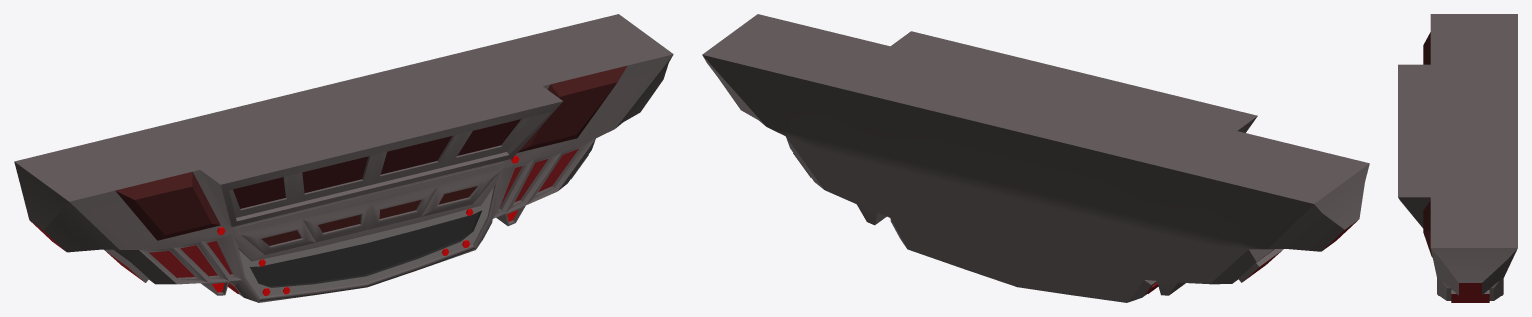
Rendered from naveEnemiga.fbx.
3 views of the same model, side by side, from view 1: azimuth 30°, elevation 25°; view 2: azimuth 150°, elevation 25°; view 3: azimuth 270°, elevation 25° (orthographic). The views are drawn at different scales.
Parts seen in each view (by area): view 1: estructura1, zonaTorretas1; view 2: estructura1; view 3: estructura1.
Part boxes in pixels (x1,y1,x2,y2): estructura1: (14,14,673,302); zonaTorretas1: (239,187,493,297); estructura1: (702,14,1369,302); estructura1: (1398,14,1517,302).
Size of the model in its own units: 503 by 128 by 106.
